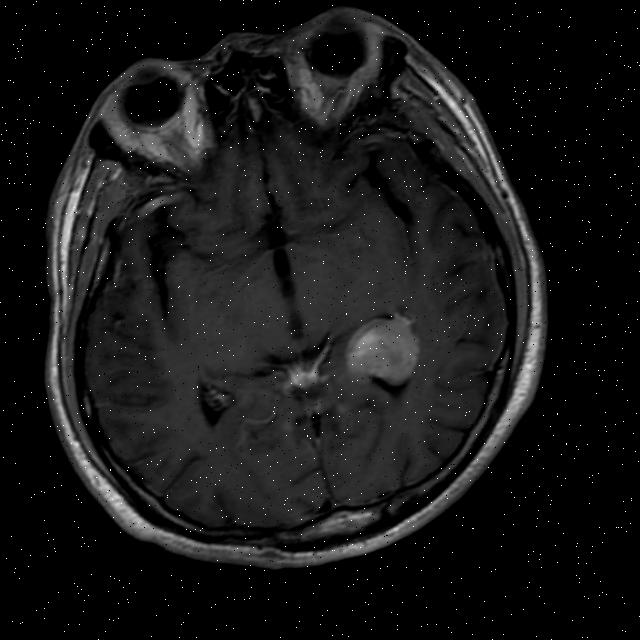Meningioma: (330, 302, 433, 402)
